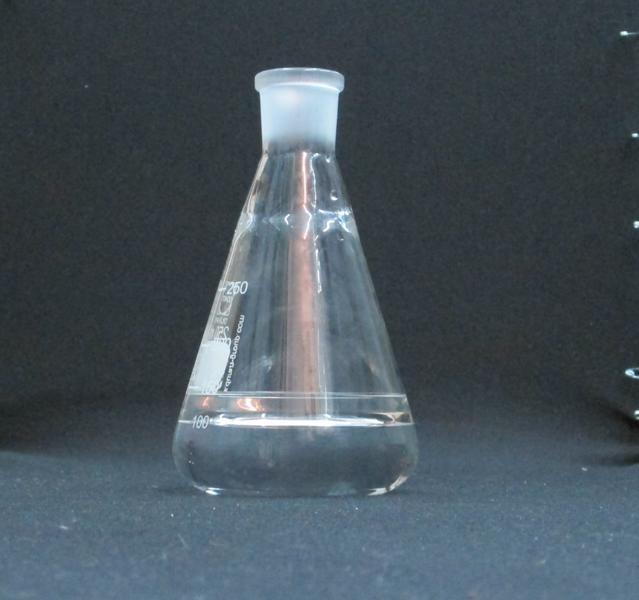Titrarion: (175, 41, 423, 494)
